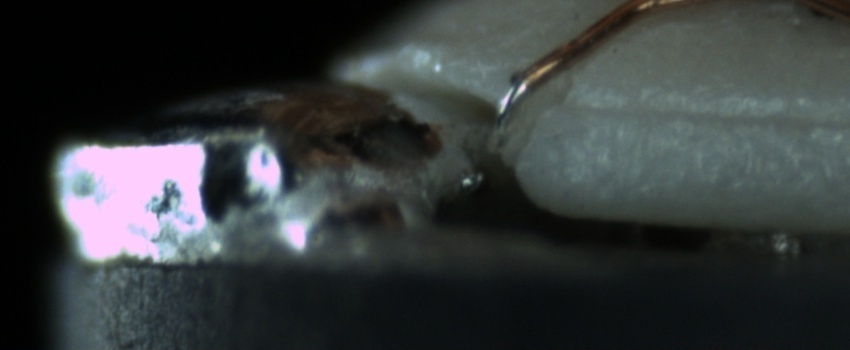DL: (561, 78, 845, 146)
TS: (477, 73, 542, 177)
TTCW: (478, 44, 569, 176)
